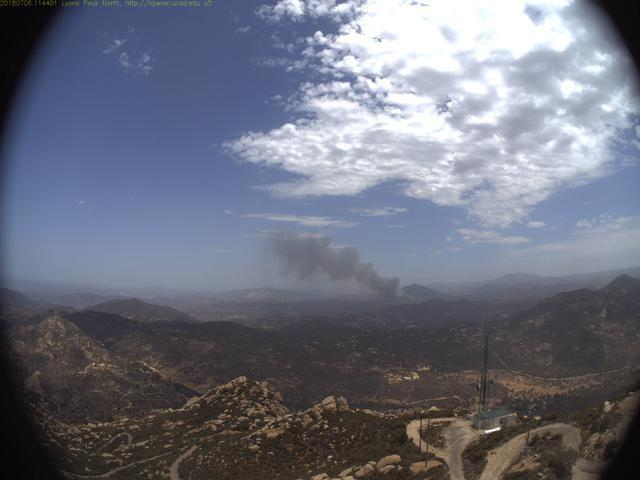smoke: (257, 223, 424, 311)
